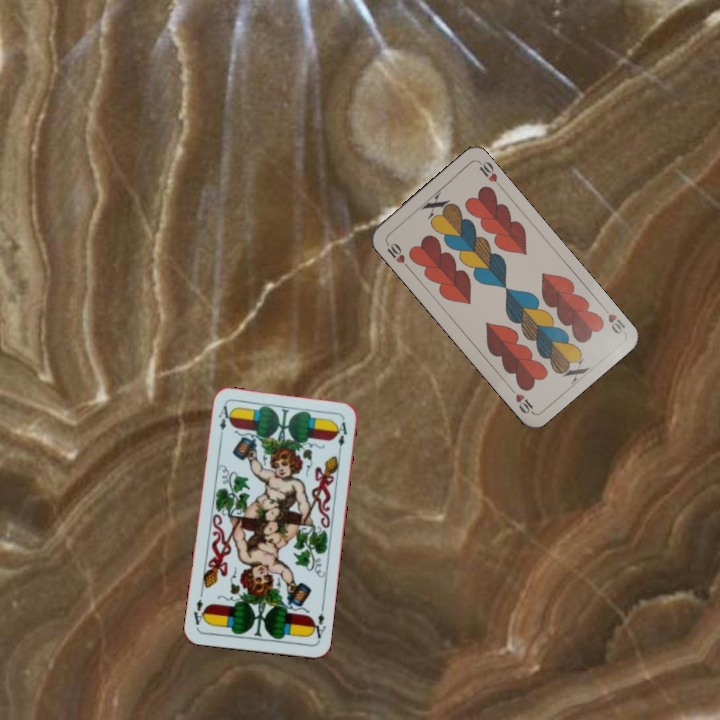EA: (307, 603, 328, 641), (215, 402, 233, 442)
H10: (598, 301, 628, 337), (382, 238, 412, 271)
